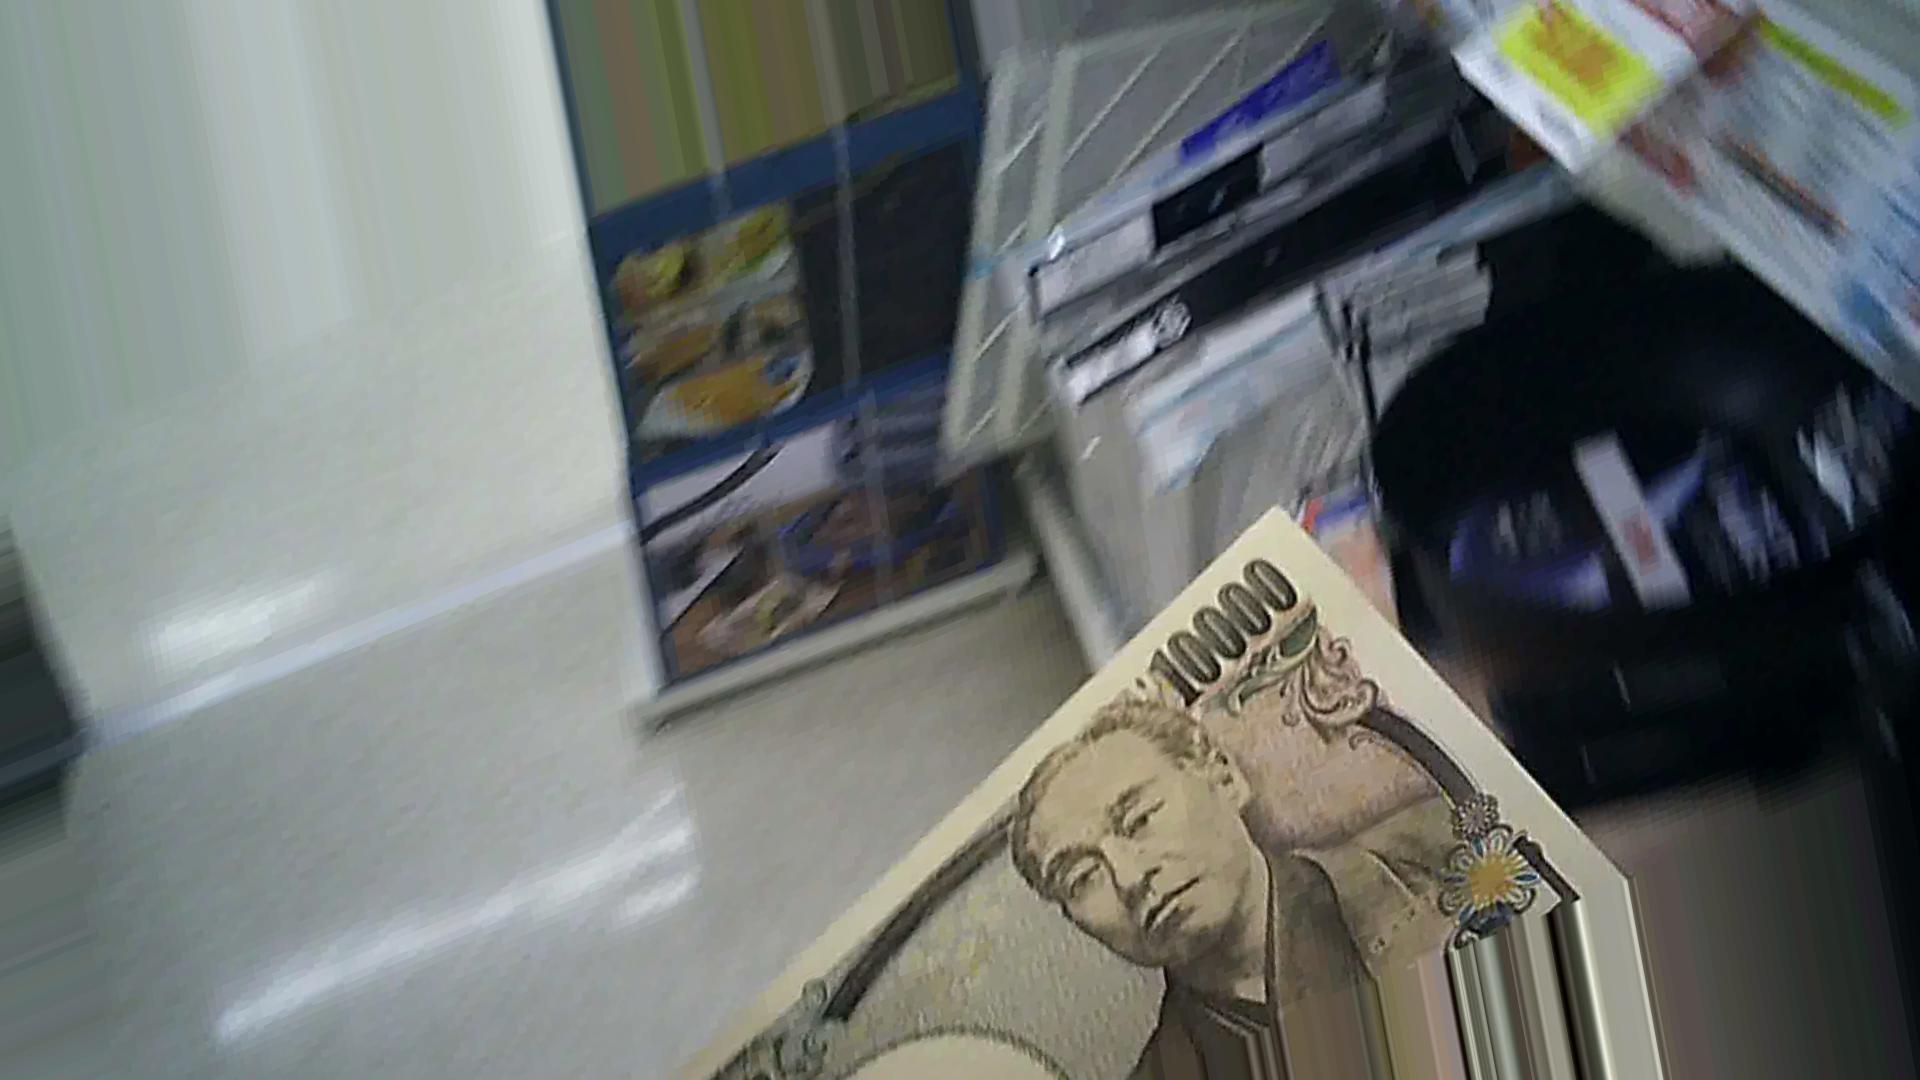10,000 Yen: (746, 518, 1625, 1071)
